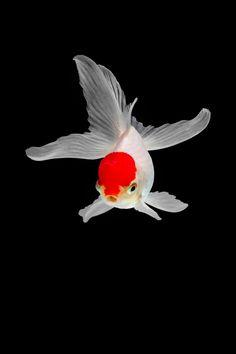goldfish: (42, 85, 206, 241)
